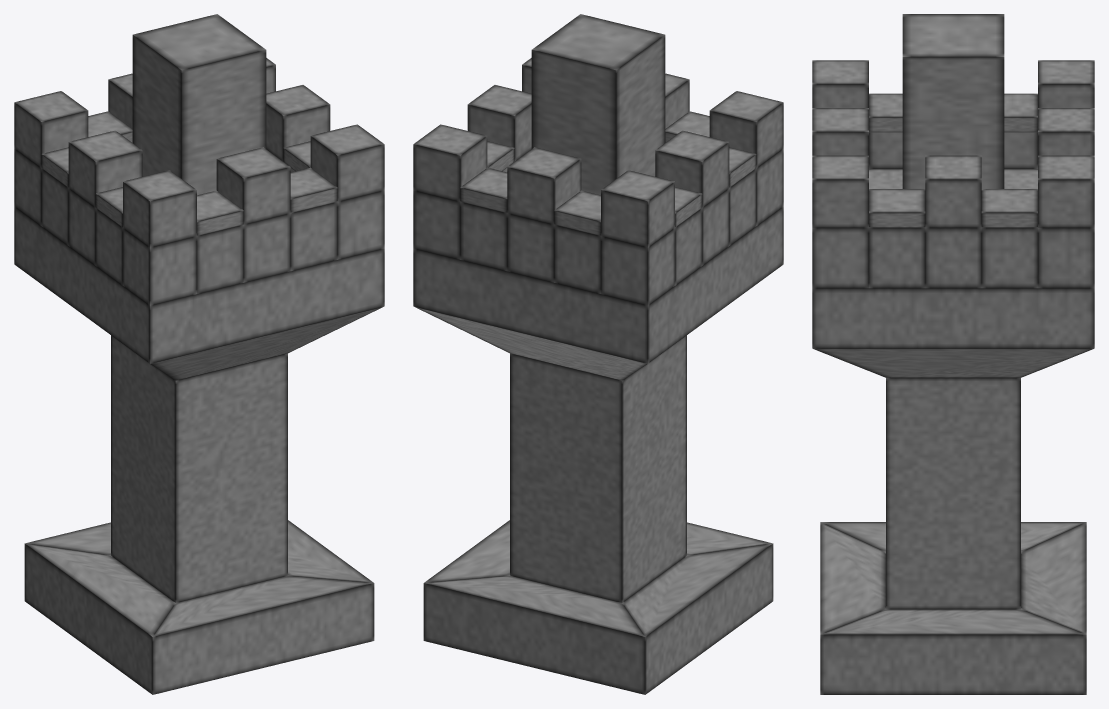
File: tower.glb
3 views of the same model, side by side, from view 1: azimuth 30°, elevation 25°; view 2: azimuth 150°, elevation 25°; view 3: azimuth 270°, elevation 25° (orthographic). The views are drawn at different scales.
Visible parts, largest first — view 1: Cube.001; view 2: Cube.001; view 3: Cube.001.
Boxes of the visible parts, box(x1,y1,x2,y2) form: Cube.001: box(14, 14, 384, 694); Cube.001: box(413, 14, 783, 694); Cube.001: box(812, 14, 1094, 694).
Size of the model in its own units: 4.24 by 9.99 by 4.24.
Materials: 1 (1 with a texture image).
